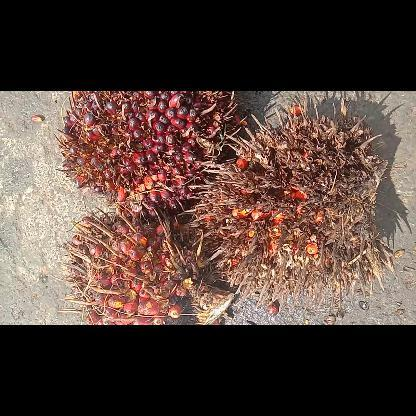TBS masak: (55, 91, 240, 216), (59, 202, 233, 324)
Terlalu masak: (183, 100, 398, 312)
